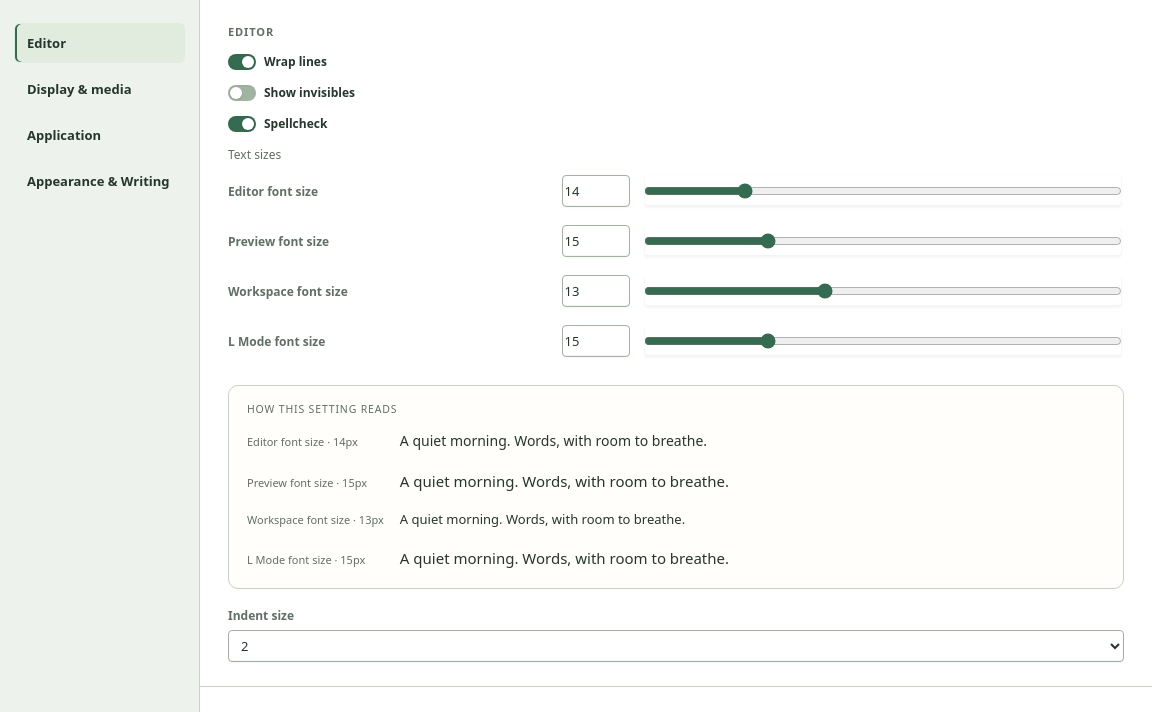
Test: drives previewFontSize from its paired slider inside the same range
Set the slider named "Preview font size" to "24": [1114, 241] box [644,225,1122,257]
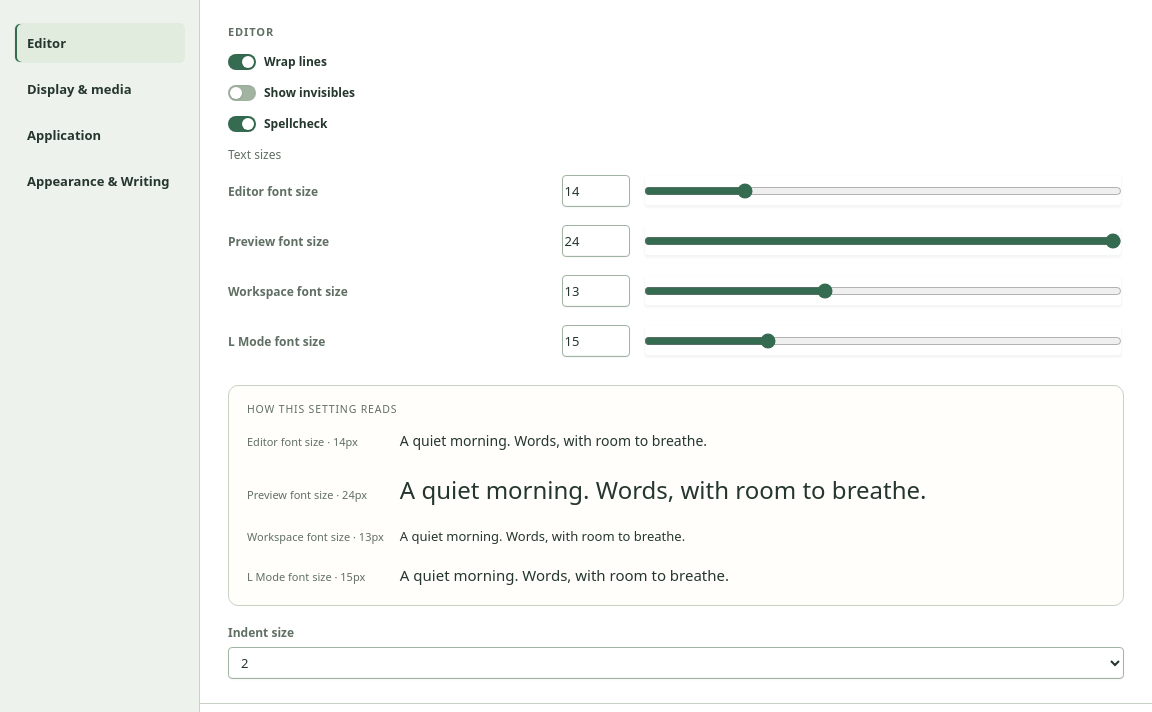
Expected: the number field named "Preview font size" holds "24", [562,225,630,257]
